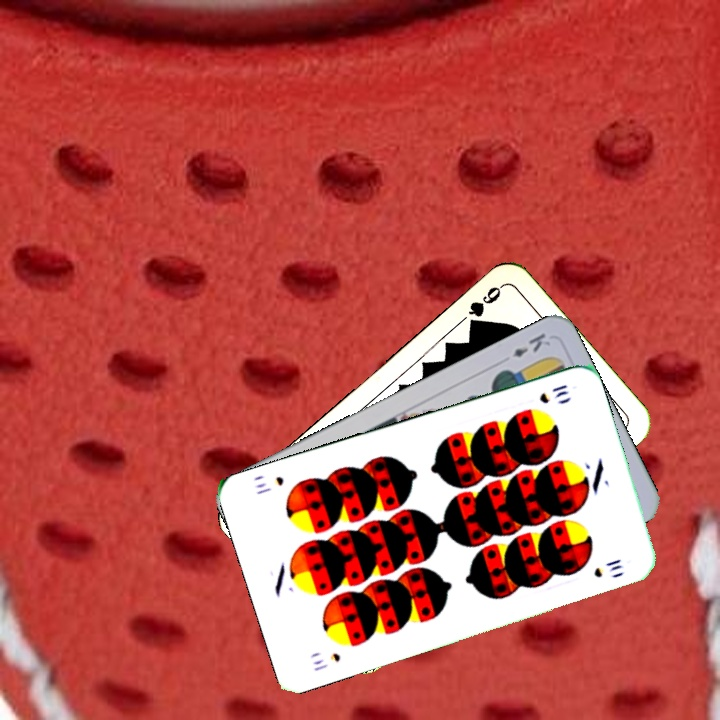EK: (509, 328, 553, 360)
G9: (463, 281, 506, 332)
S10: (535, 380, 571, 406), (309, 648, 343, 674)
